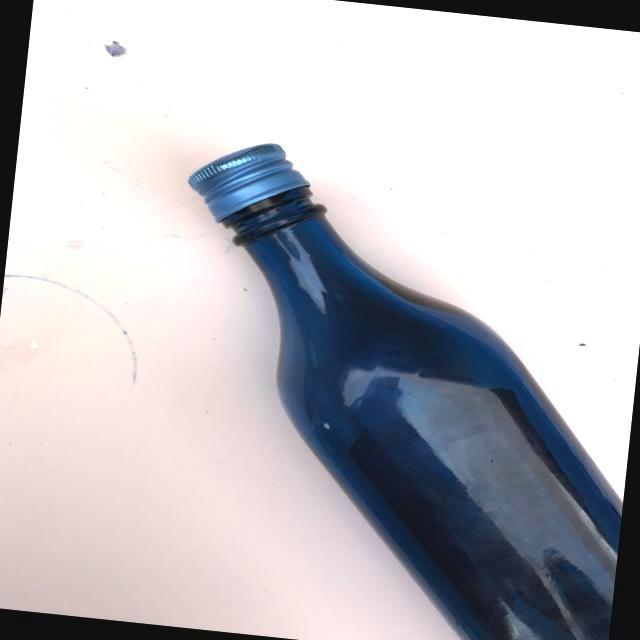glass: (129, 128, 640, 640)
